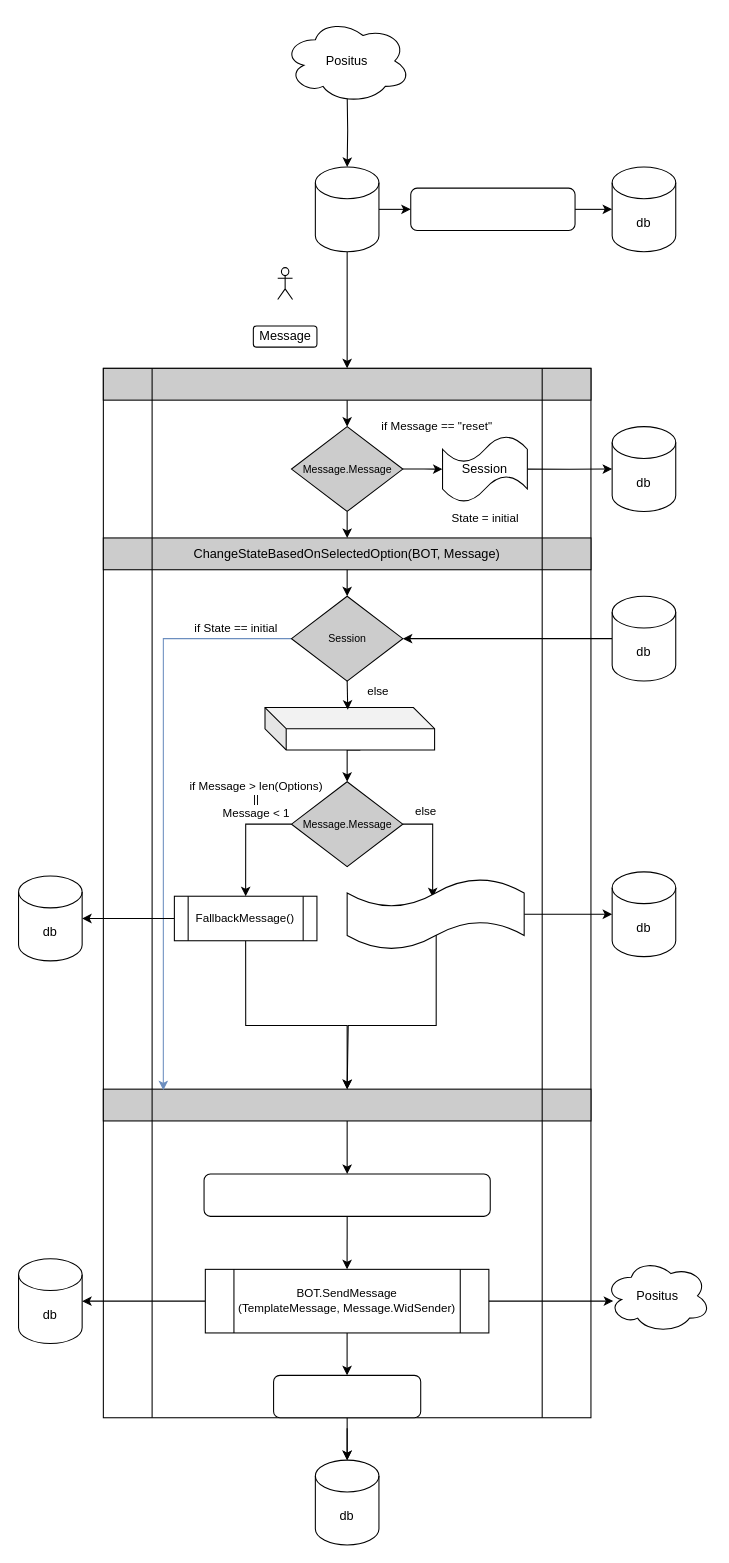
Image size: 729x1563. Some labels were removed from this diagram. Each missing label, with the centre of its shape:
"BOT" goes at (x=285, y=283).
"Message.ProcessedAt = false" goes at (x=492, y=209).
"Message.ProcessedAt = True" goes at (x=347, y=1396).
"PositusBOT.getOptions()" goes at (x=349, y=728).
"ResetState(BOT, Message)" goes at (x=346, y=383).
"server" goes at (x=346, y=209).
"Session.State = Option[Link]" goes at (x=435, y=914).
"TemplateMessage = BOT.TemplateMessage(State)" goes at (x=346, y=1194).
"TemplateResponse(BOT, Message)" goes at (x=346, y=1104).
